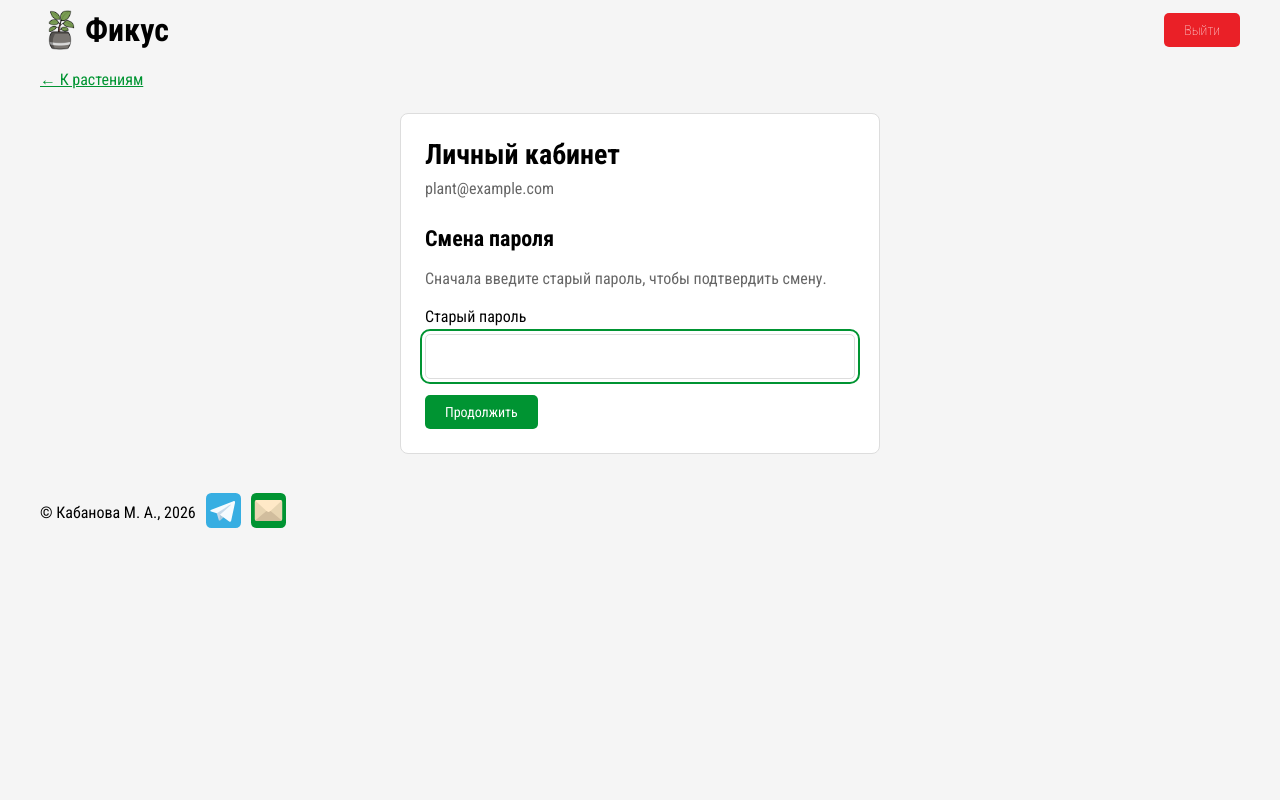
rejects an incorrect old password (auth/wrong-password)
In the password field labelled "Старый пароль": x=640, y=356 [425,334,855,379], type "wrong"
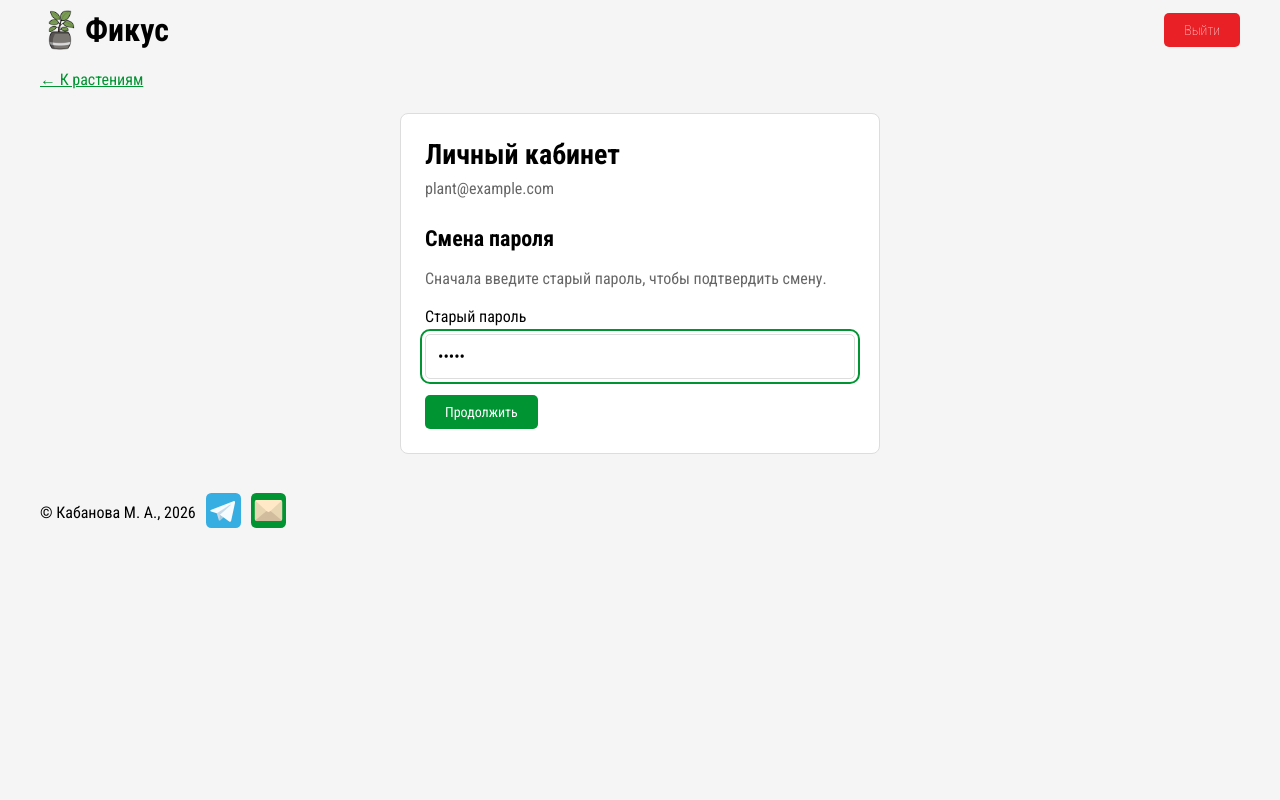
Submit the form "Смена пароля", box [425,226,855,429]
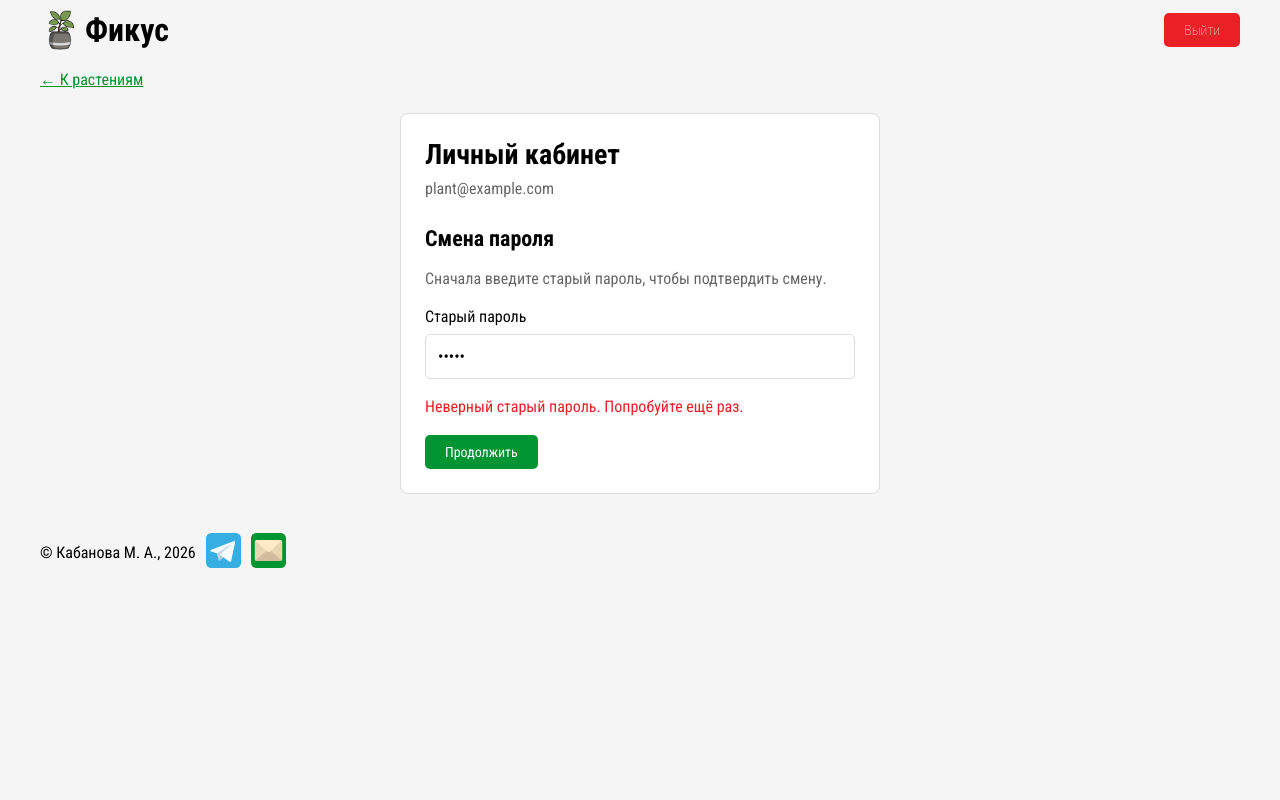
Expected: the message shows "Неверный старый пароль", [425,397,744,416]
